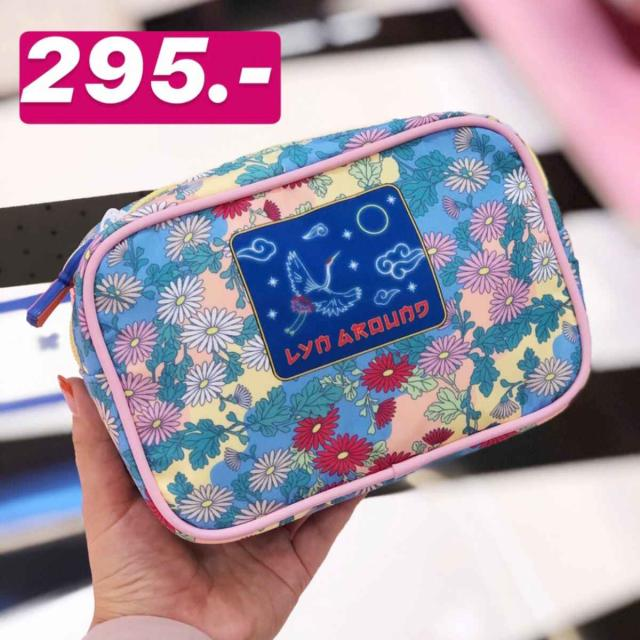Handbag: (70, 111, 590, 542)
